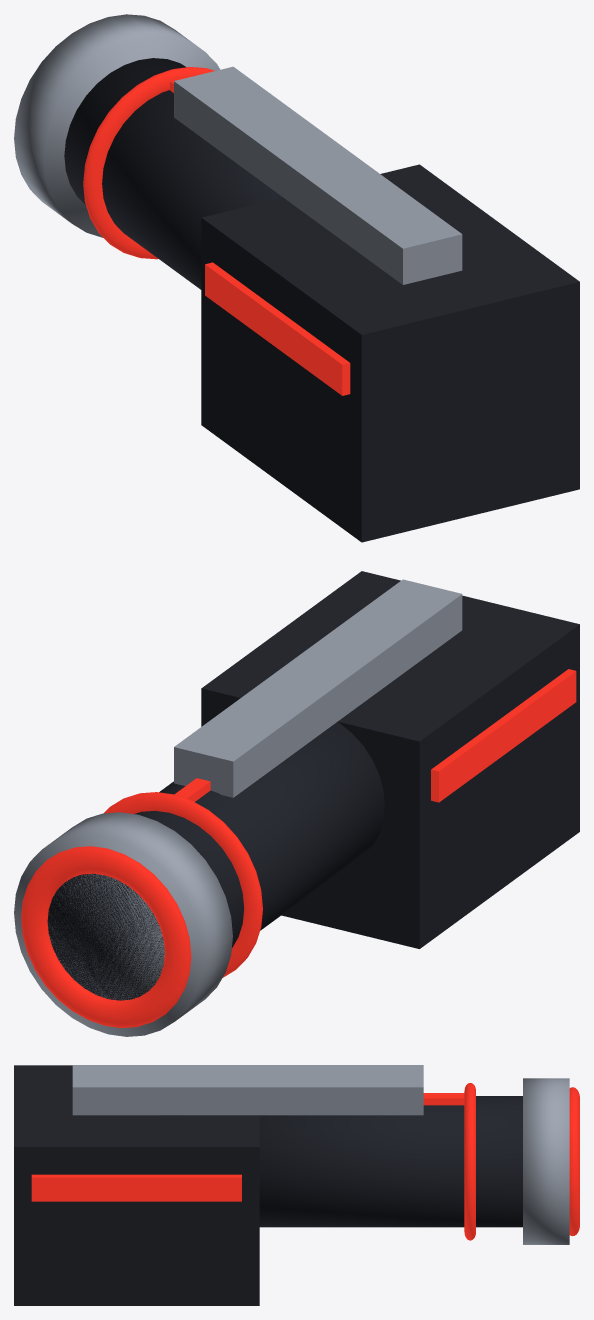
File: launcher.glb
3 views of the same model, one above another, from view 1: azimuth 30°, elevation 25°; view 2: azimuth 150°, elevation 25°; view 3: azimuth 270°, elevation 25° (orthographic). The views are drawn at different scales.
Parts seen in each view (by area): view 1: Body, Rail, Barrel, Collar, BodyLightLeft, BarrelBand; view 2: Body, Barrel, Rail, Collar, MuzzleRing, BodyLightLeft, BarrelBand; view 3: Body, Barrel, Rail, Collar, BodyLightRight, BarrelBand, MuzzleRing, BarrelLight.
Boxes of the visible parts, <box> form: Body: <box>201,164,579,542</box>; Rail: <box>174,66,462,284</box>; Barrel: <box>64,58,282,289</box>; Collar: <box>14,14,220,237</box>; BodyLightLeft: <box>205,262,350,395</box>; BarrelBand: <box>83,67,214,259</box>; Body: <box>201,571,579,948</box>; Barrel: <box>47,722,384,1000</box>; Rail: <box>174,579,462,797</box>; Collar: <box>14,812,232,1036</box>; MuzzleRing: <box>21,846,191,1027</box>; BodyLightLeft: <box>431,669,576,802</box>; BarrelBand: <box>104,792,262,977</box>; Body: <box>14,1065,259,1305</box>; Barrel: <box>160,1096,522,1227</box>; Rail: <box>72,1065,423,1115</box>; Collar: <box>523,1078,569,1244</box>; BodyLightRight: <box>31,1174,241,1201</box>; BarrelBand: <box>464,1083,475,1240</box>; MuzzleRing: <box>569,1087,579,1236</box>; BarrelLight: <box>423,1093,464,1105</box>.
Bounding box in the file's own units: 0.3115 × 0.3135 × 0.8514.
